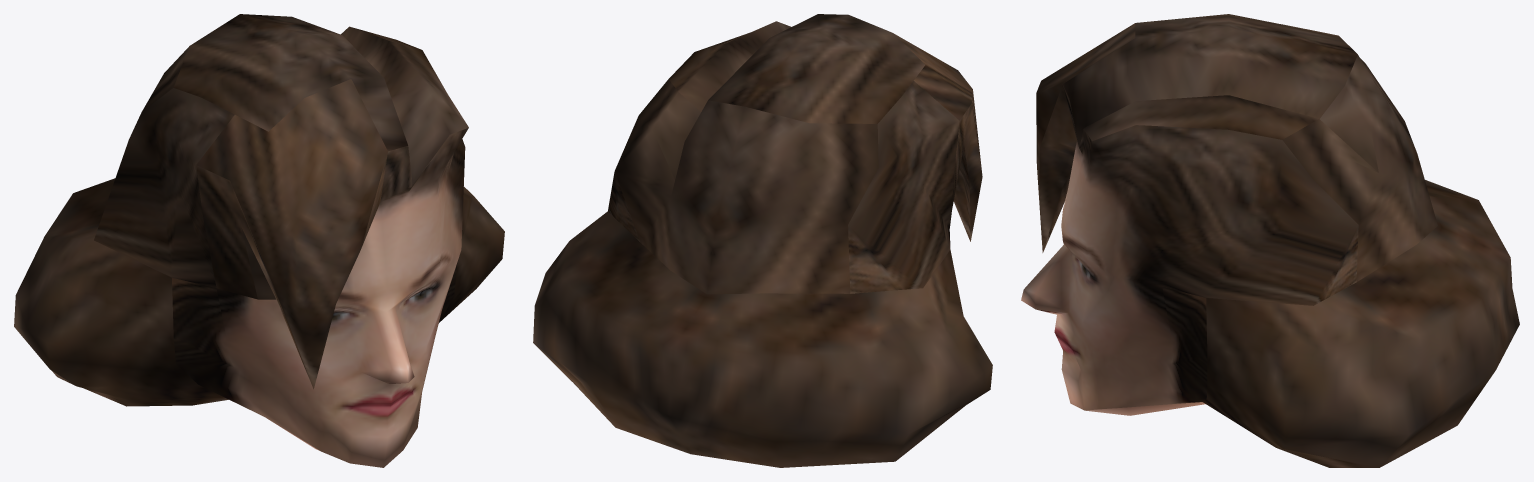
Rendered from f_head2.fbx.
The picture shows the model from 3 angles, left to right: view 1: azimuth 30°, elevation 25°; view 2: azimuth 150°, elevation 25°; view 3: azimuth 270°, elevation 25°; orthographic projection. The views are drawn at different scales.
Parts seen in each view (by area): view 1: f_head2; view 2: f_head2; view 3: f_head2.
Part boxes in pixels (x1=…): f_head2: x1=14, y1=14, x2=504, y2=467; f_head2: x1=533, y1=14, x2=992, y2=467; f_head2: x1=1021, y1=14, x2=1519, y2=467.
Bounding box in the file's own units: 32.5 × 26.39 × 30.47.
Materials: 1 (1 with a texture image).
